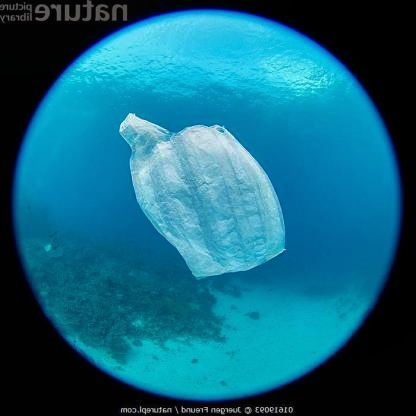pbag: (118, 112, 287, 279)
